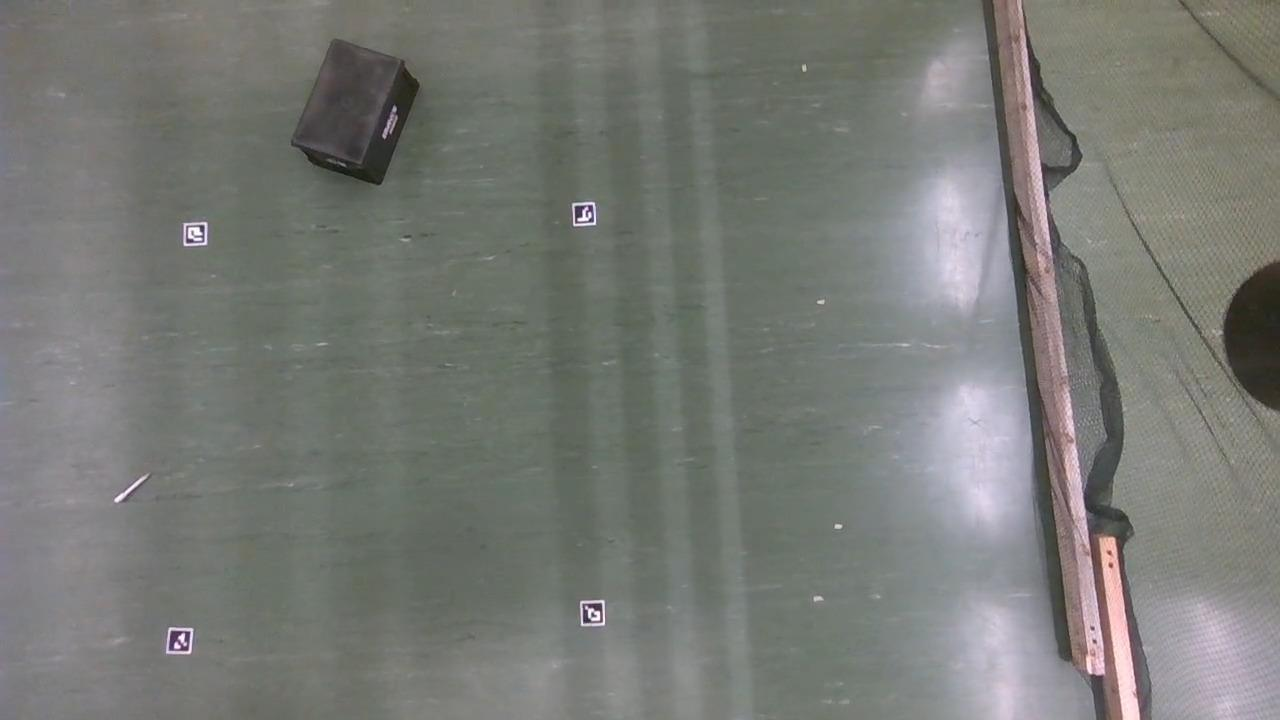probes: (114, 472, 149, 503)
rako: (290, 37, 419, 185)
